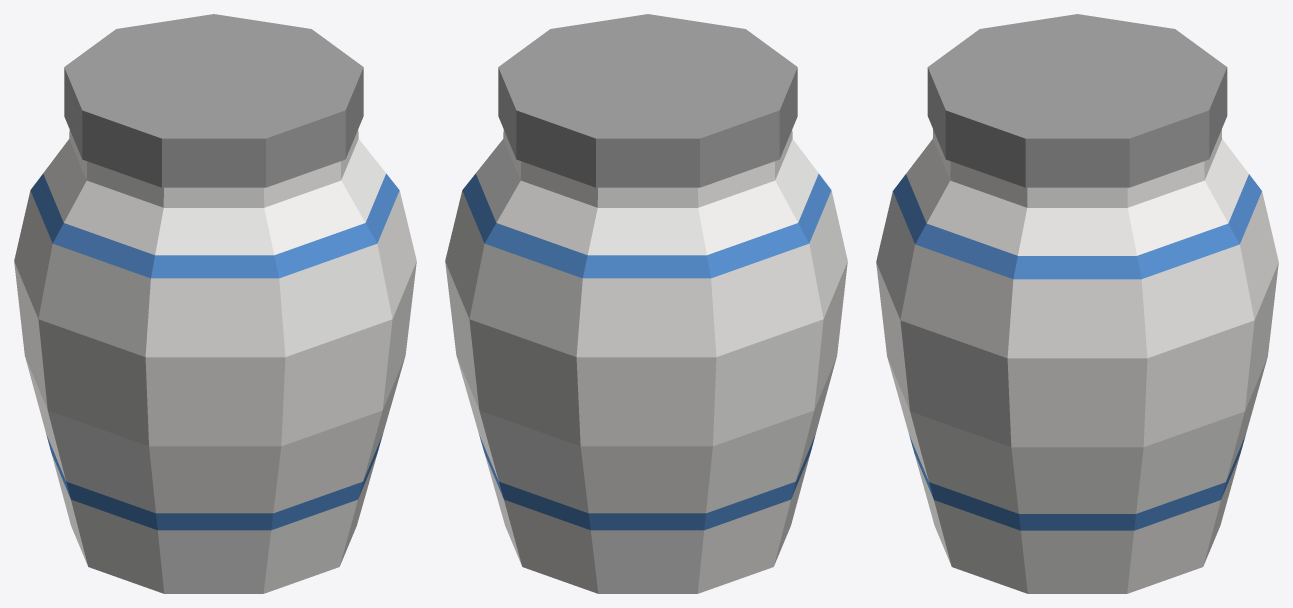
The model's file is Urn.fbx.
3 views of the same model, side by side, from view 1: azimuth 30°, elevation 25°; view 2: azimuth 150°, elevation 25°; view 3: azimuth 270°, elevation 25° (orthographic).
Visible parts, largest first — view 1: Urn; view 2: Urn; view 3: Urn.
Part boxes in pixels (x1,y1,x2,y2): Urn: (14, 14, 416, 593); Urn: (445, 14, 847, 593); Urn: (876, 14, 1278, 593).
Bounding box in the file's own units: 37.31 × 37.88 × 47.55.
